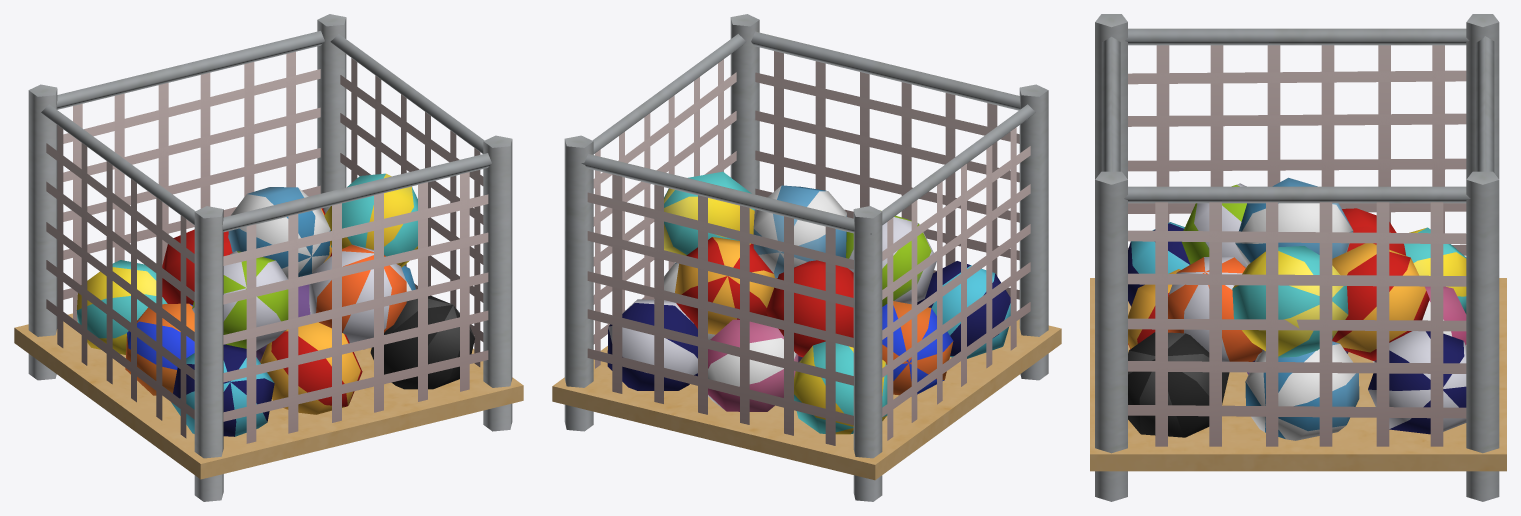
File: Ball_Box_03.FBX
The picture shows the model from 3 angles, left to right: view 1: azimuth 30°, elevation 25°; view 2: azimuth 150°, elevation 25°; view 3: azimuth 270°, elevation 25°; orthographic projection. The views are drawn at different scales.
Visible parts, largest first — view 1: Ball_Box_03; view 2: Ball_Box_03; view 3: Ball_Box_03.
Part boxes in pixels (x1=…): Ball_Box_03: x1=14, y1=14, x2=523, y2=501; Ball_Box_03: x1=552, y1=14, x2=1061, y2=501; Ball_Box_03: x1=1090, y1=14, x2=1506, y2=501.
Size of the model in its own units: 0.9654 by 0.9654 by 0.8107.
